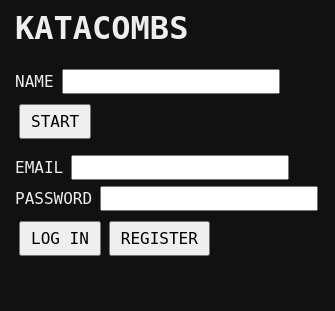
Test: the start screen › WEB-MSG-1: the server's message for a refusal appears in the messages
Type "admin" into the field labelled "NAME" at (170, 81), box [62, 69, 280, 94]
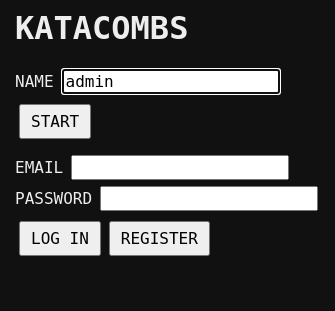
Click the button "START" at (55, 121), box [19, 104, 91, 139]
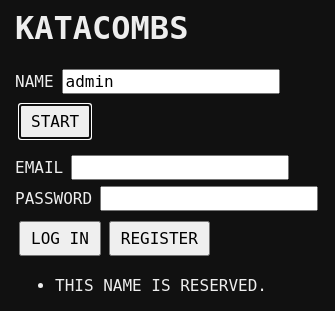
Result: the list item "THIS NAME IS RESERVED." is shown at [55, 276, 267, 295]
